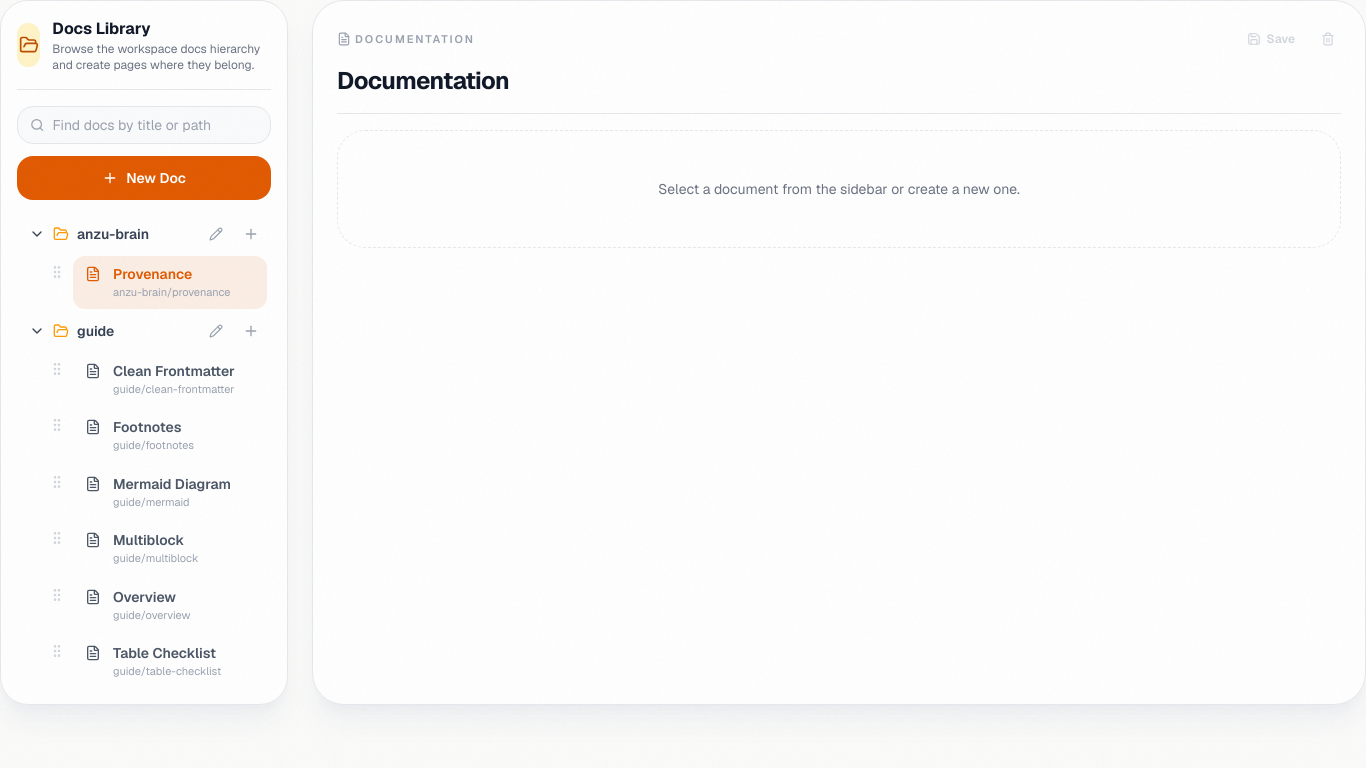
Test: DocsScreen markdown round-trip fidelity (FLUX-1654) › defaults a doc with no extra front-matter to Rich text mode
The width and height of the screenshot is (1366, 768).
Expected: the text "Provenance" is shown, [113,265,192,283]
Click the text "Overview" at (144, 596), box [113,588,176,606]
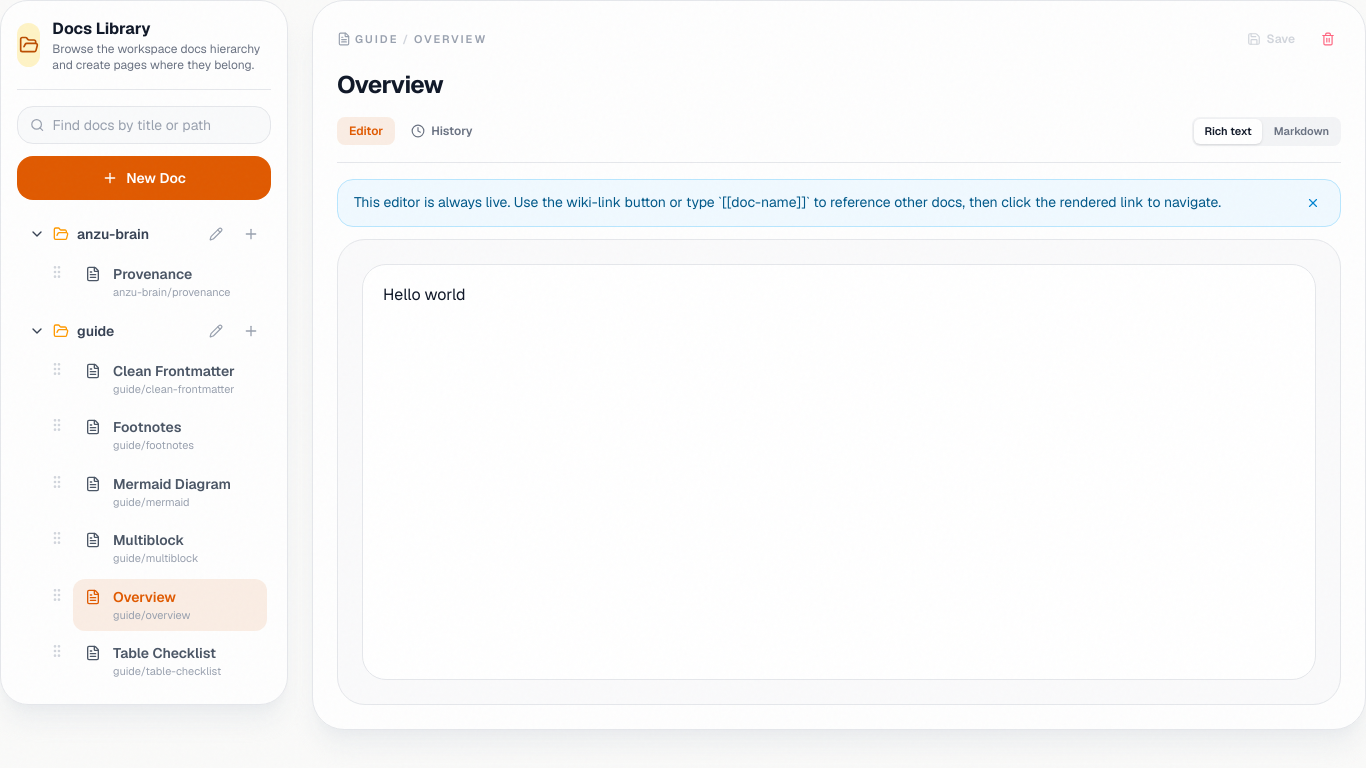
Expected: the field labelled "Hello world" is shown, [362,264,1316,680]
